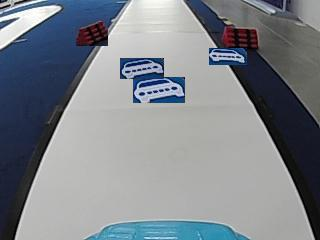bomb: (221, 26, 259, 47)
